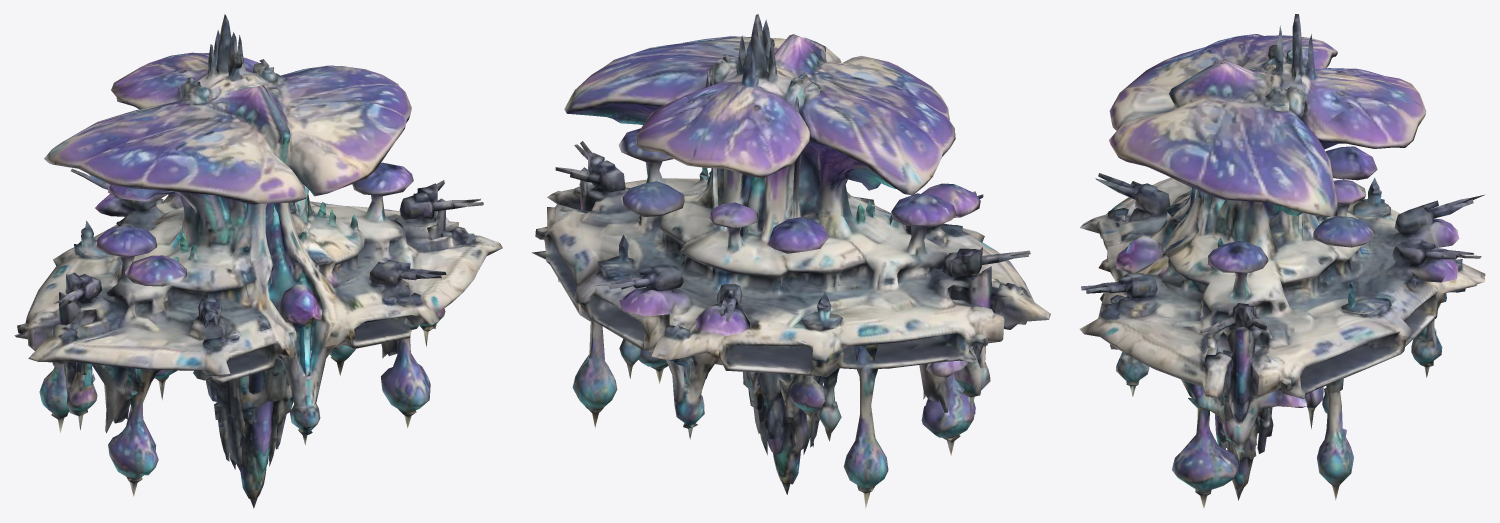
File: HL_Station_Gadversee_Military_retopo.glb
3 views of the same model, side by side, from view 1: azimuth 30°, elevation 25°; view 2: azimuth 150°, elevation 25°; view 3: azimuth 270°, elevation 25° (orthographic). The views are drawn at different scales.
Parts seen in each view (by area): view 1: HL_Station_Gadversee_Military_retopo; view 2: HL_Station_Gadversee_Military_retopo; view 3: HL_Station_Gadversee_Military_retopo.
Boxes of the visible parts, bbox=[...] form: HL_Station_Gadversee_Military_retopo: bbox=[14, 14, 502, 508]; HL_Station_Gadversee_Military_retopo: bbox=[532, 14, 1050, 508]; HL_Station_Gadversee_Military_retopo: bbox=[1079, 14, 1485, 507].
Bounding box in the file's own units: 0.9781 × 0.9373 × 0.7088.
Materials: 1 (1 with a texture image).
